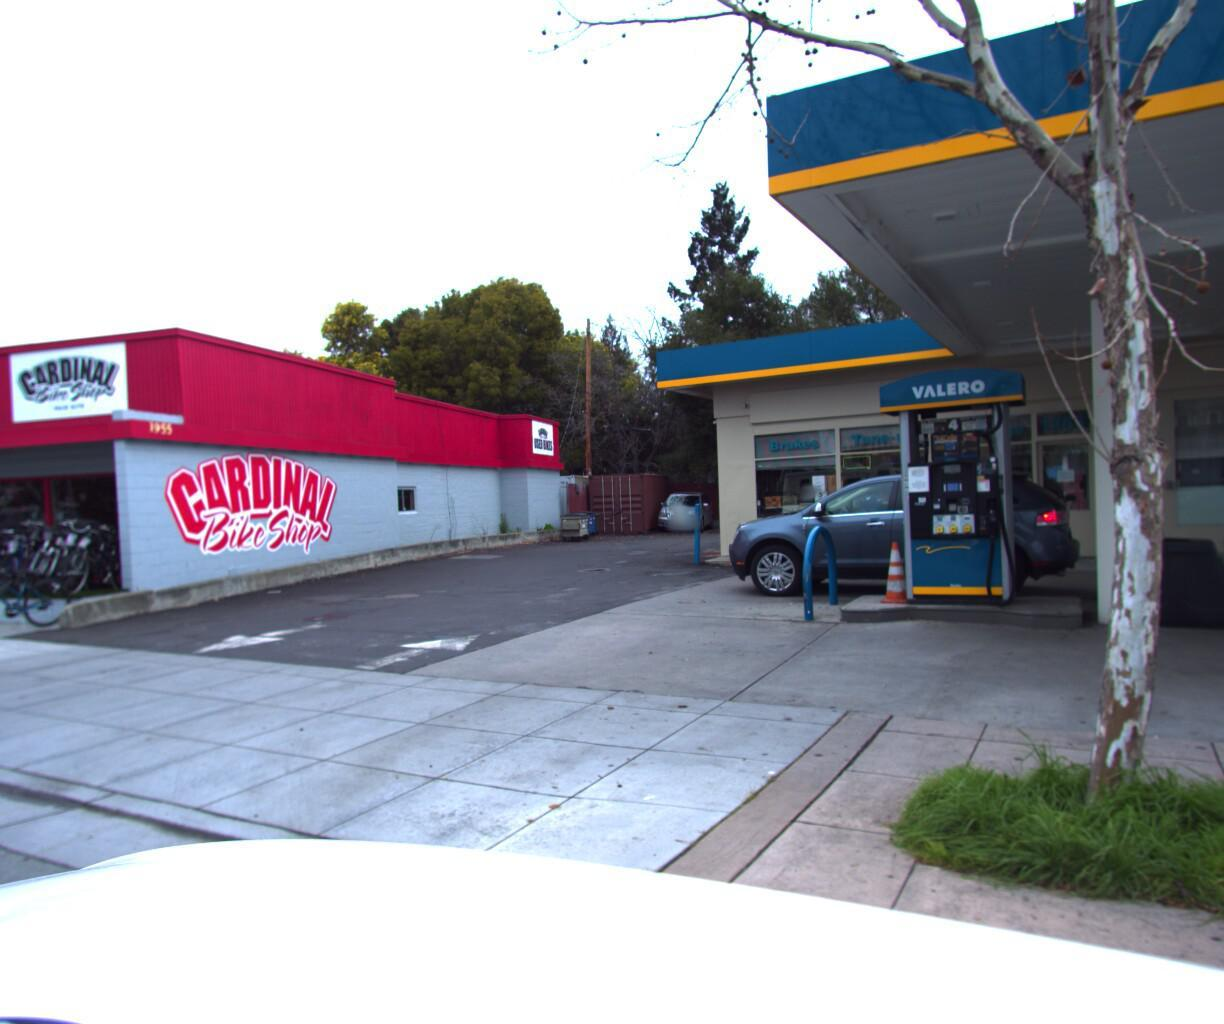bicycle: (2, 519, 116, 600), (53, 517, 165, 599), (26, 518, 139, 599), (13, 519, 126, 599), (44, 518, 155, 599), (0, 520, 104, 599), (0, 521, 86, 600), (0, 550, 70, 644), (0, 521, 77, 600), (0, 529, 43, 589), (0, 526, 23, 590)
car: (700, 460, 1091, 604), (649, 486, 717, 533), (1208, 442, 1224, 634)
